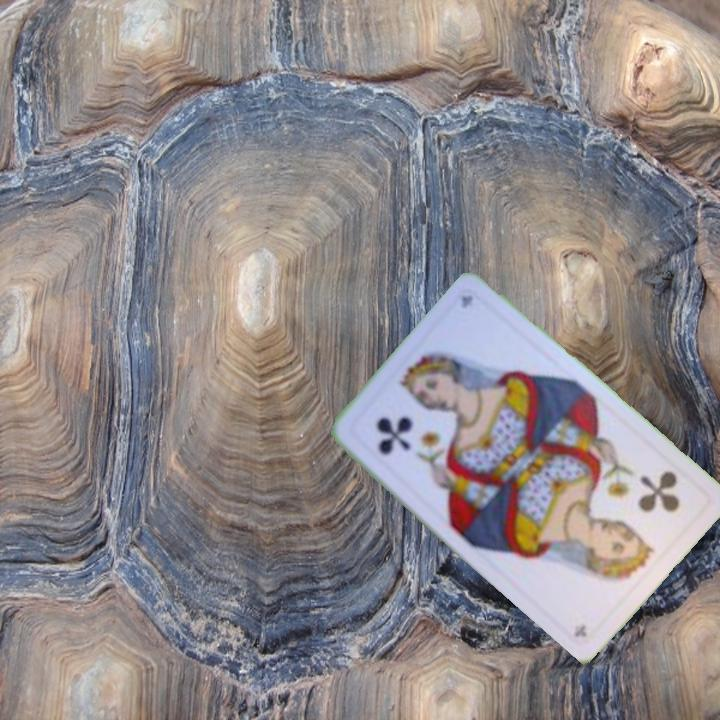c_q.png: (345, 359, 473, 488), (584, 444, 712, 573)
